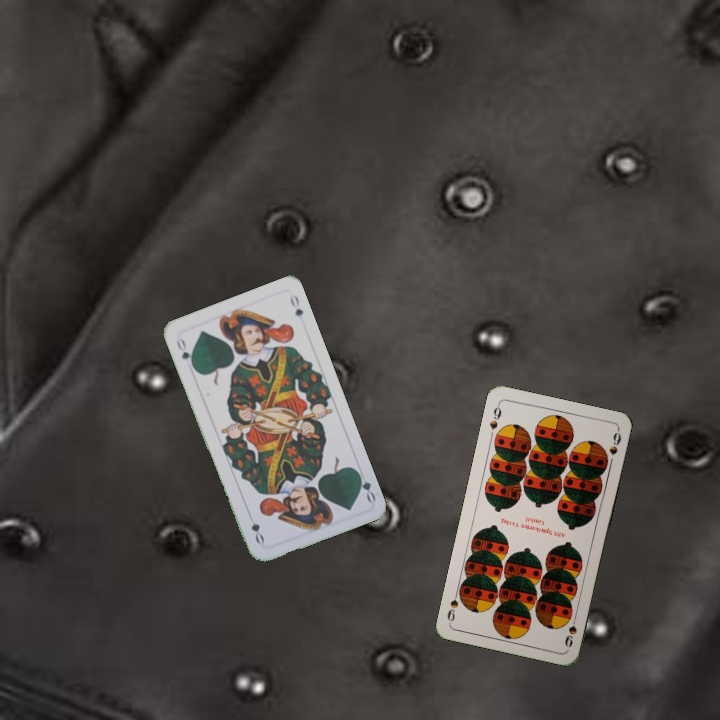GO: (352, 465, 378, 505), (173, 333, 197, 371)
S9: (561, 610, 580, 650), (486, 400, 504, 432)
